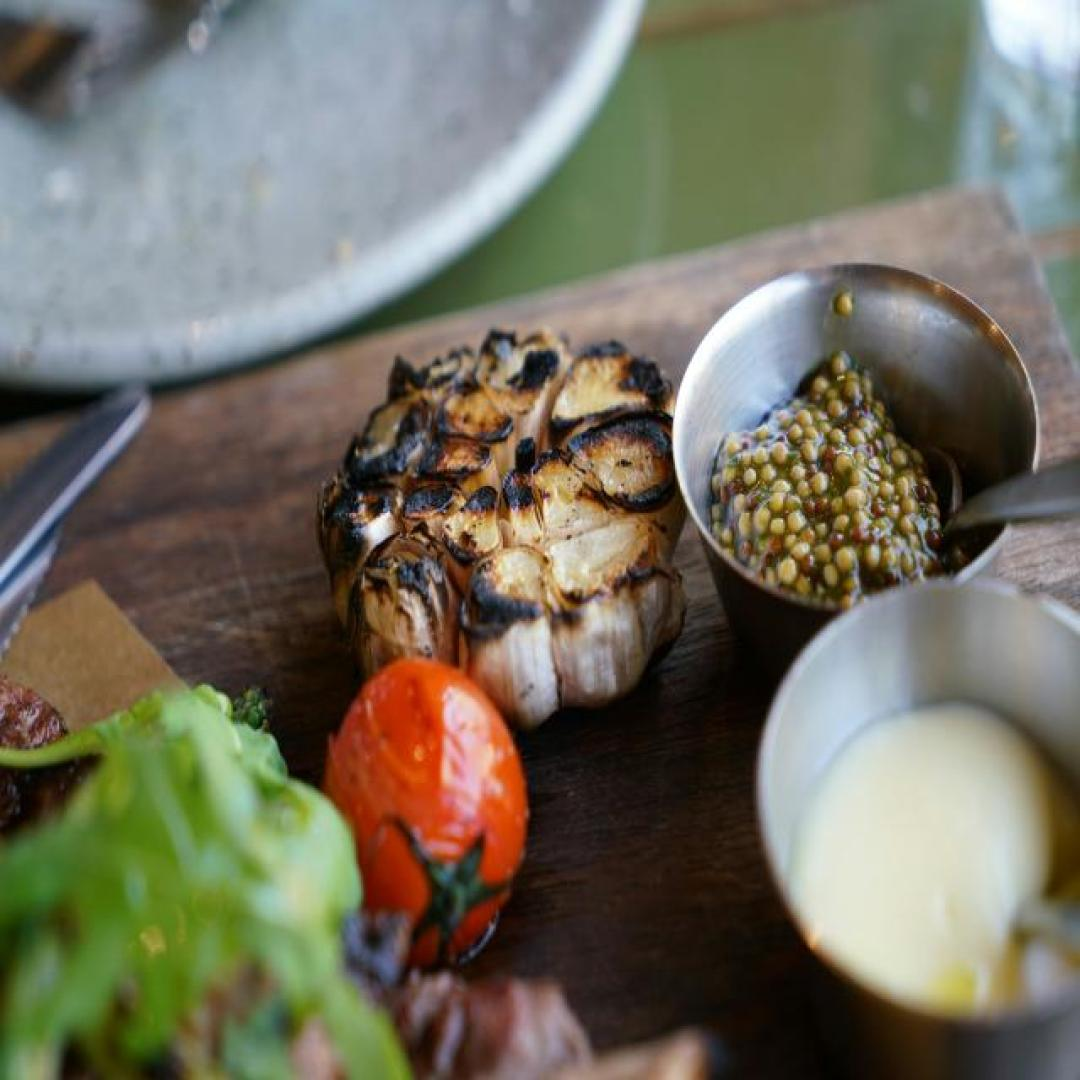matang: (317, 658, 528, 967)
